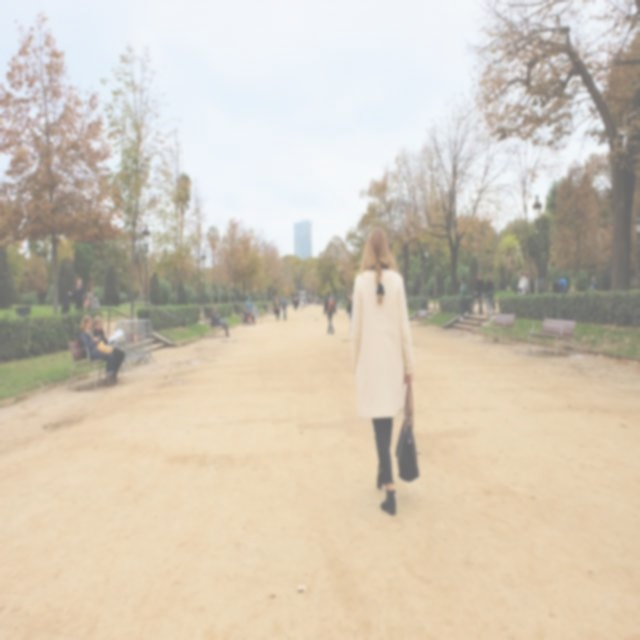pessoa: (346, 222, 422, 520), (76, 312, 116, 388), (90, 314, 126, 386), (269, 288, 321, 324), (207, 304, 231, 340), (322, 287, 338, 335), (70, 274, 87, 312), (240, 296, 258, 330), (473, 268, 485, 317), (515, 270, 537, 296), (343, 290, 355, 335), (458, 276, 469, 322), (484, 272, 496, 314), (548, 272, 568, 294), (84, 282, 96, 310), (590, 273, 600, 291), (490, 273, 495, 291)
